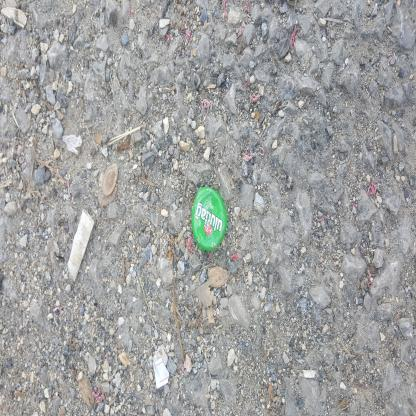trash: (85, 329, 136, 416)
